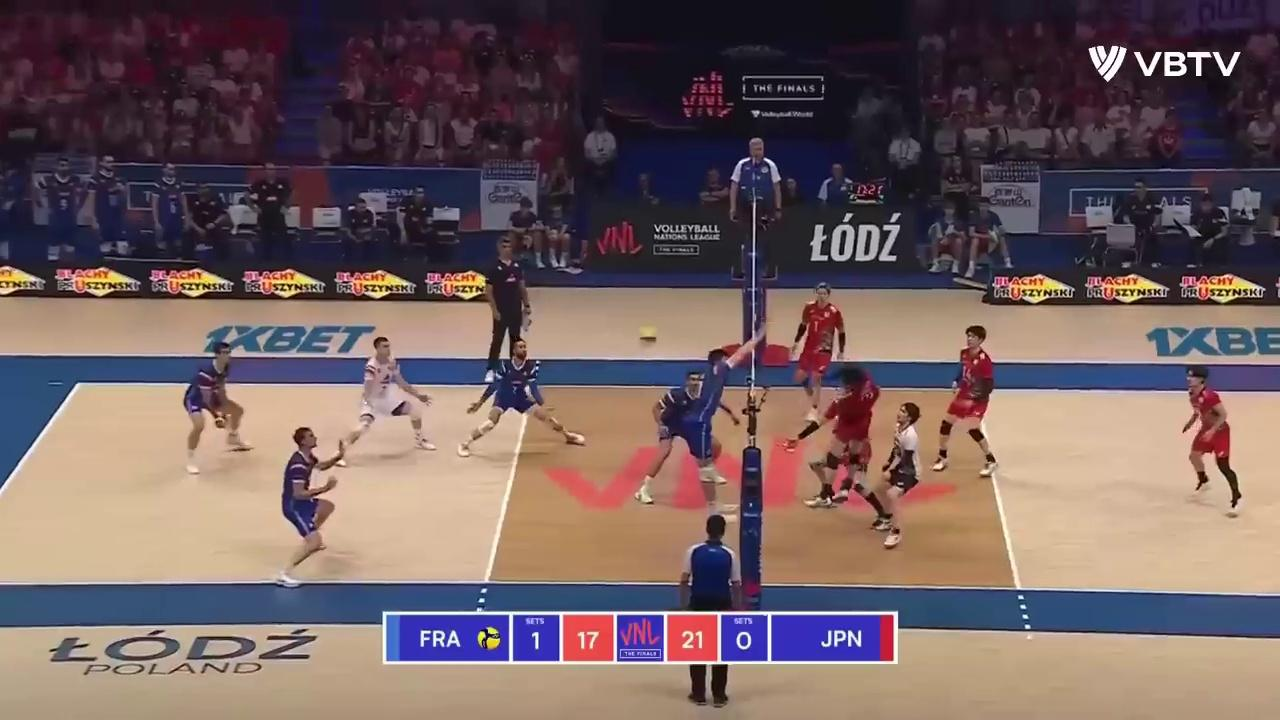ball: (635, 328, 661, 348)
